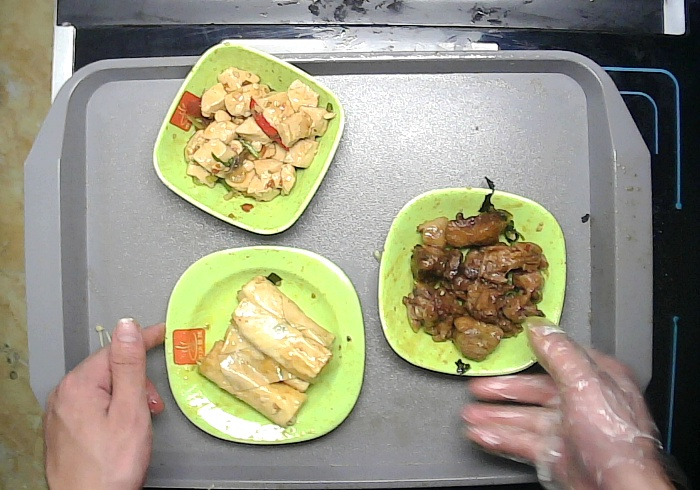SHKJ-Lv_Se_Cai_Die: (378, 188, 569, 377)
SHKJ-Lv_Se_Si_Fang_Cai_Die: (164, 246, 365, 444)
SHKJ-Lv_Se_Xiao_Fang_Die: (152, 43, 345, 233)
